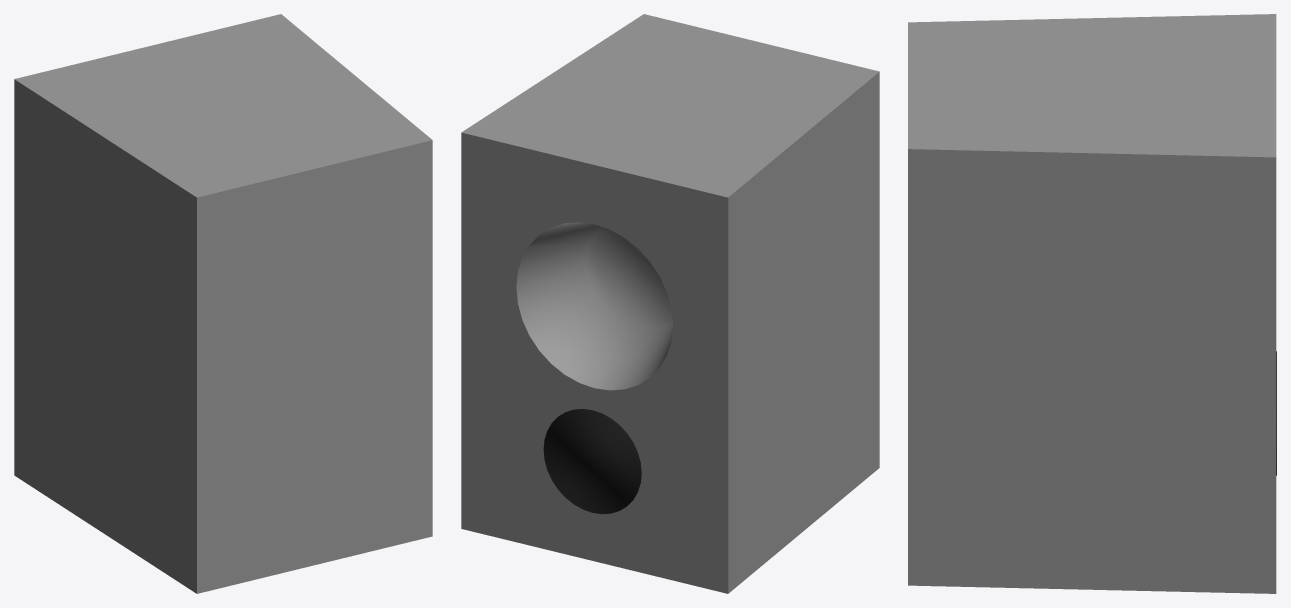
Rendered from Speaker.glb.
3 renders of one model, left to right at view 1: azimuth 30°, elevation 25°; view 2: azimuth 150°, elevation 25°; view 3: azimuth 270°, elevation 25°, orthographic. The views are drawn at different scales.
Parts seen in each view (by area): view 1: Cube; view 2: Cube, Cylinder.001; view 3: Cube.
Boxes of the visible parts, <box> form: Cube: <box>14,14,432,593</box>; Cube: <box>461,14,879,593</box>; Cylinder.001: <box>543,409,641,514</box>; Cube: <box>908,14,1276,593</box>.
Size of the model in its own units: 1.84 by 2.62 by 2.
2 materials, 2 textured.
